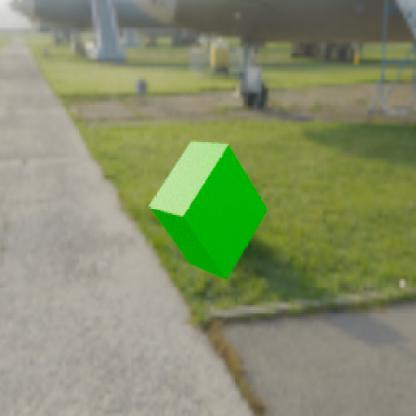cube: (148, 141, 268, 278)
